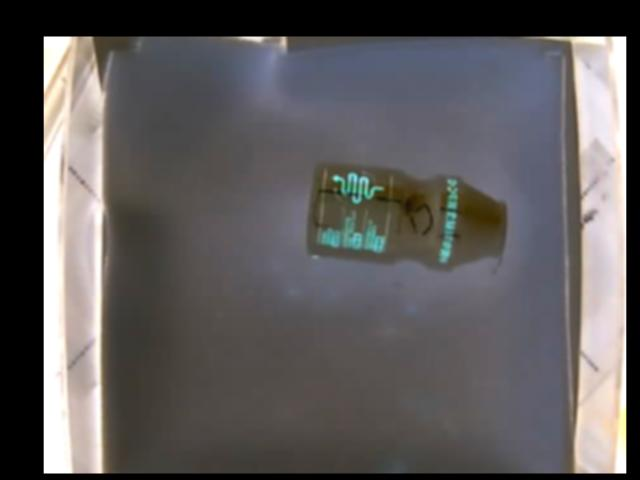Bottle: (308, 159, 507, 272)
